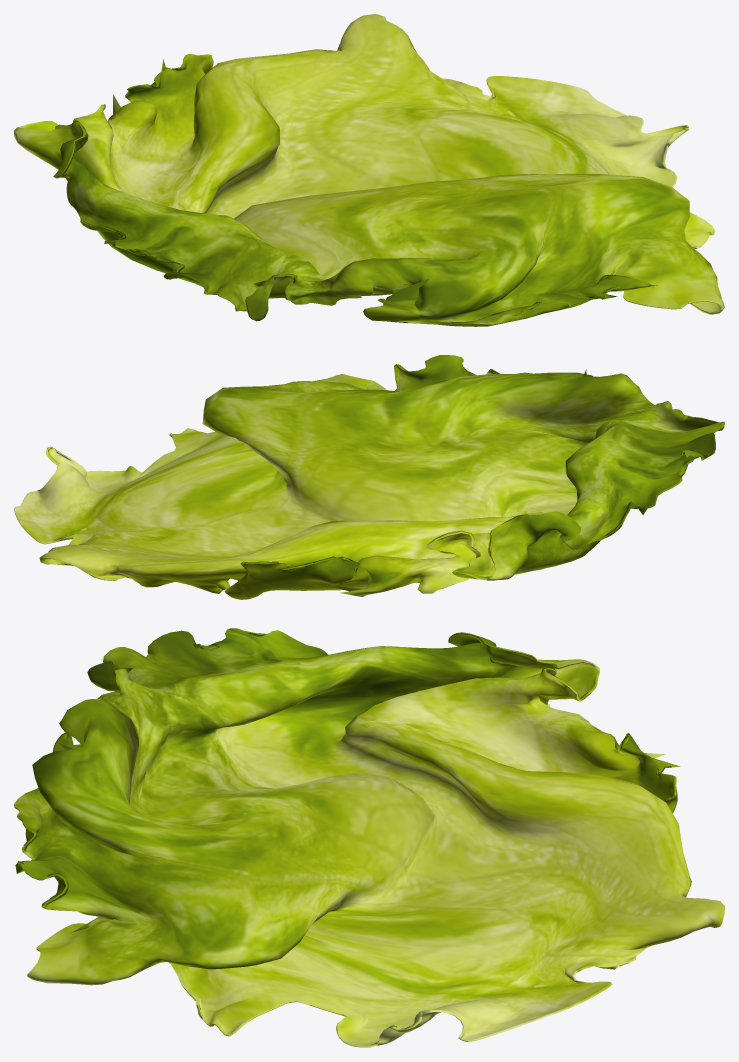
Rendered from Lettuce.fbx.
3 renders of one model, top to bottom at view 1: azimuth 30°, elevation 25°; view 2: azimuth 150°, elevation 25°; view 3: azimuth 270°, elevation 25°, orthographic. The views are drawn at different scales.
Visible parts, largest first — view 1: Lettuce1; view 2: Lettuce1; view 3: Lettuce1.
Boxes of the visible parts, <box> form: Lettuce1: <box>14,14,724,326</box>; Lettuce1: <box>14,355,724,599</box>; Lettuce1: <box>14,628,724,1047</box>.
Size of the model in its own units: 20.97 by 4.22 by 19.68.
